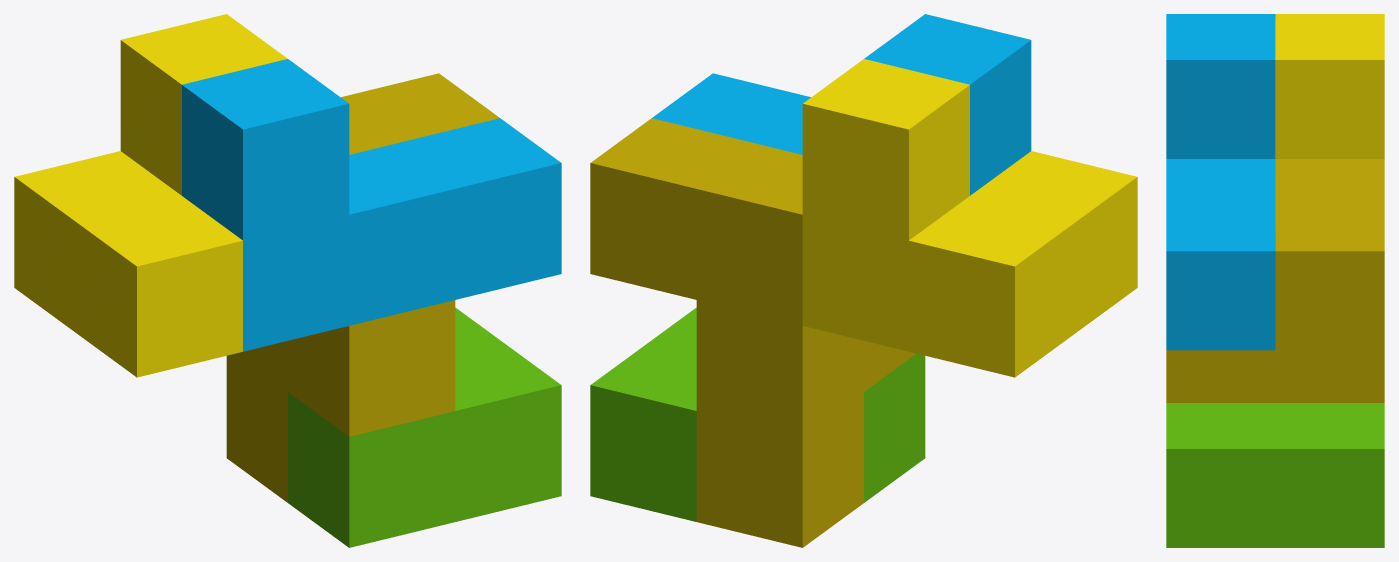
The picture shows the model from 3 angles, left to right: view 1: azimuth 30°, elevation 25°; view 2: azimuth 150°, elevation 25°; view 3: azimuth 270°, elevation 25°; orthographic projection. The views are drawn at different scales.
Visible parts, largest first — view 1: mergedBlocks(Clone); view 2: mergedBlocks(Clone); view 3: mergedBlocks(Clone).
Part boxes in pixels (bbox=[...]): mergedBlocks(Clone): bbox=[14, 14, 561, 547]; mergedBlocks(Clone): bbox=[590, 14, 1137, 547]; mergedBlocks(Clone): bbox=[1166, 14, 1384, 547].
Bounding box in the file's own units: 4 × 4 × 2.
4 materials, 4 textured.
